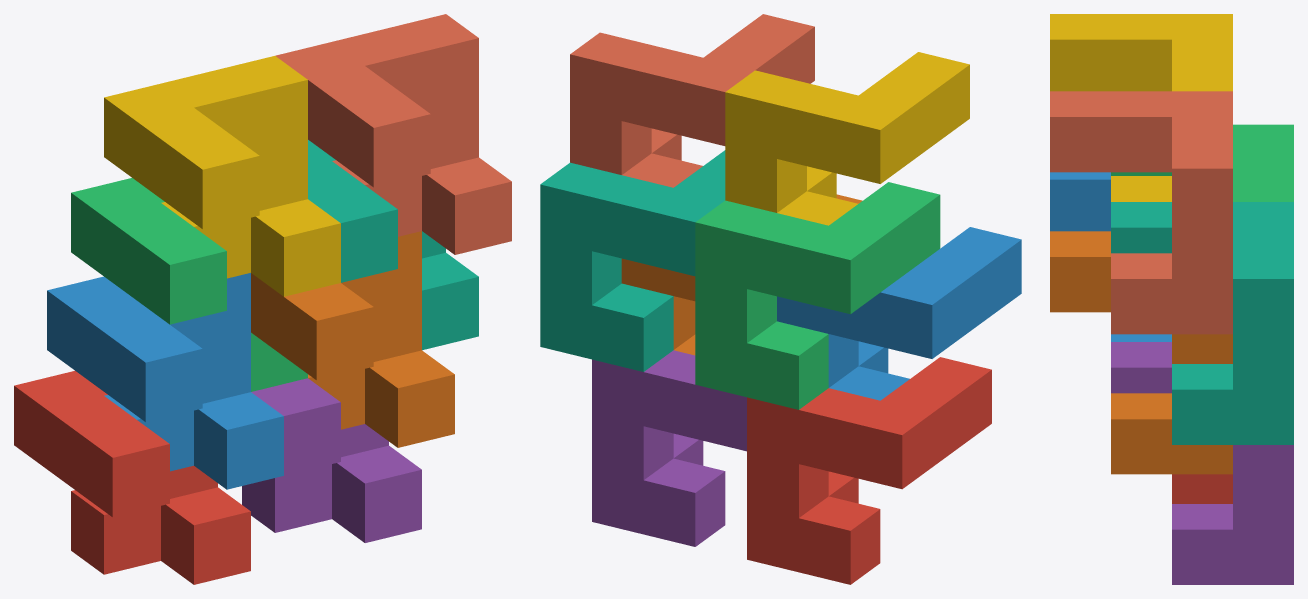
File: tiling.obj
3 views of the same model, side by side, from view 1: azimuth 30°, elevation 25°; view 2: azimuth 150°, elevation 25°; view 3: azimuth 270°, elevation 25° (orthographic). The views are drawn at different scales.
Parts seen in each view (by area): view 1: copy_1_domain_4, copy_1_domain_8, copy_1_domain_2, copy_1_domain_1, copy_1_domain_6, copy_1_domain_5, copy_1_domain_3, copy_1_domain_7; view 2: copy_1_domain_3, copy_1_domain_1, copy_1_domain_4, copy_1_domain_7, copy_1_domain_8, copy_1_domain_5, copy_1_domain_2, copy_1_domain_6; view 3: copy_1_domain_8, copy_1_domain_7, copy_1_domain_5, copy_1_domain_4, copy_1_domain_6, copy_1_domain_3, copy_1_domain_2, copy_1_domain_1.
Part boxes in pixels (x1=…): copy_1_domain_4: x1=104, y1=56, x2=340, y2=296; copy_1_domain_8: x1=275, y1=14, x2=511, y2=254; copy_1_domain_2: x1=47, y1=273, x2=283, y2=489; copy_1_domain_1: x1=14, y1=371, x2=250, y2=584; copy_1_domain_6: x1=251, y1=231, x2=454, y2=447; copy_1_domain_5: x1=242, y1=378, x2=421, y2=542; copy_1_domain_3: x1=71, y1=178, x2=307, y2=391; copy_1_domain_7: x1=308, y1=140, x2=478, y2=350; copy_1_domain_3: x1=695, y1=182, x2=940, y2=409; copy_1_domain_1: x1=747, y1=357, x2=991, y2=584; copy_1_domain_4: x1=725, y1=52, x2=969, y2=225; copy_1_domain_7: x1=540, y1=150, x2=725, y2=371; copy_1_domain_8: x1=570, y1=14, x2=814, y2=187; copy_1_domain_5: x1=592, y1=350, x2=746, y2=546; copy_1_domain_2: x1=777, y1=227, x2=1021, y2=400; copy_1_domain_6: x1=621, y1=194, x2=862, y2=355; copy_1_domain_8: x1=1050, y1=91, x2=1232, y2=334; copy_1_domain_7: x1=1111, y1=202, x2=1293, y2=444; copy_1_domain_5: x1=1111, y1=342, x2=1293, y2=584; copy_1_domain_4: x1=1050, y1=14, x2=1232, y2=201; copy_1_domain_6: x1=1050, y1=231, x2=1232, y2=474; copy_1_domain_3: x1=1111, y1=124, x2=1293, y2=201; copy_1_domain_2: x1=1050, y1=172, x2=1171, y2=341; copy_1_domain_1: x1=1172, y1=474, x2=1232, y2=503.
Bounding box in the file's own units: 7 × 8 × 4.
